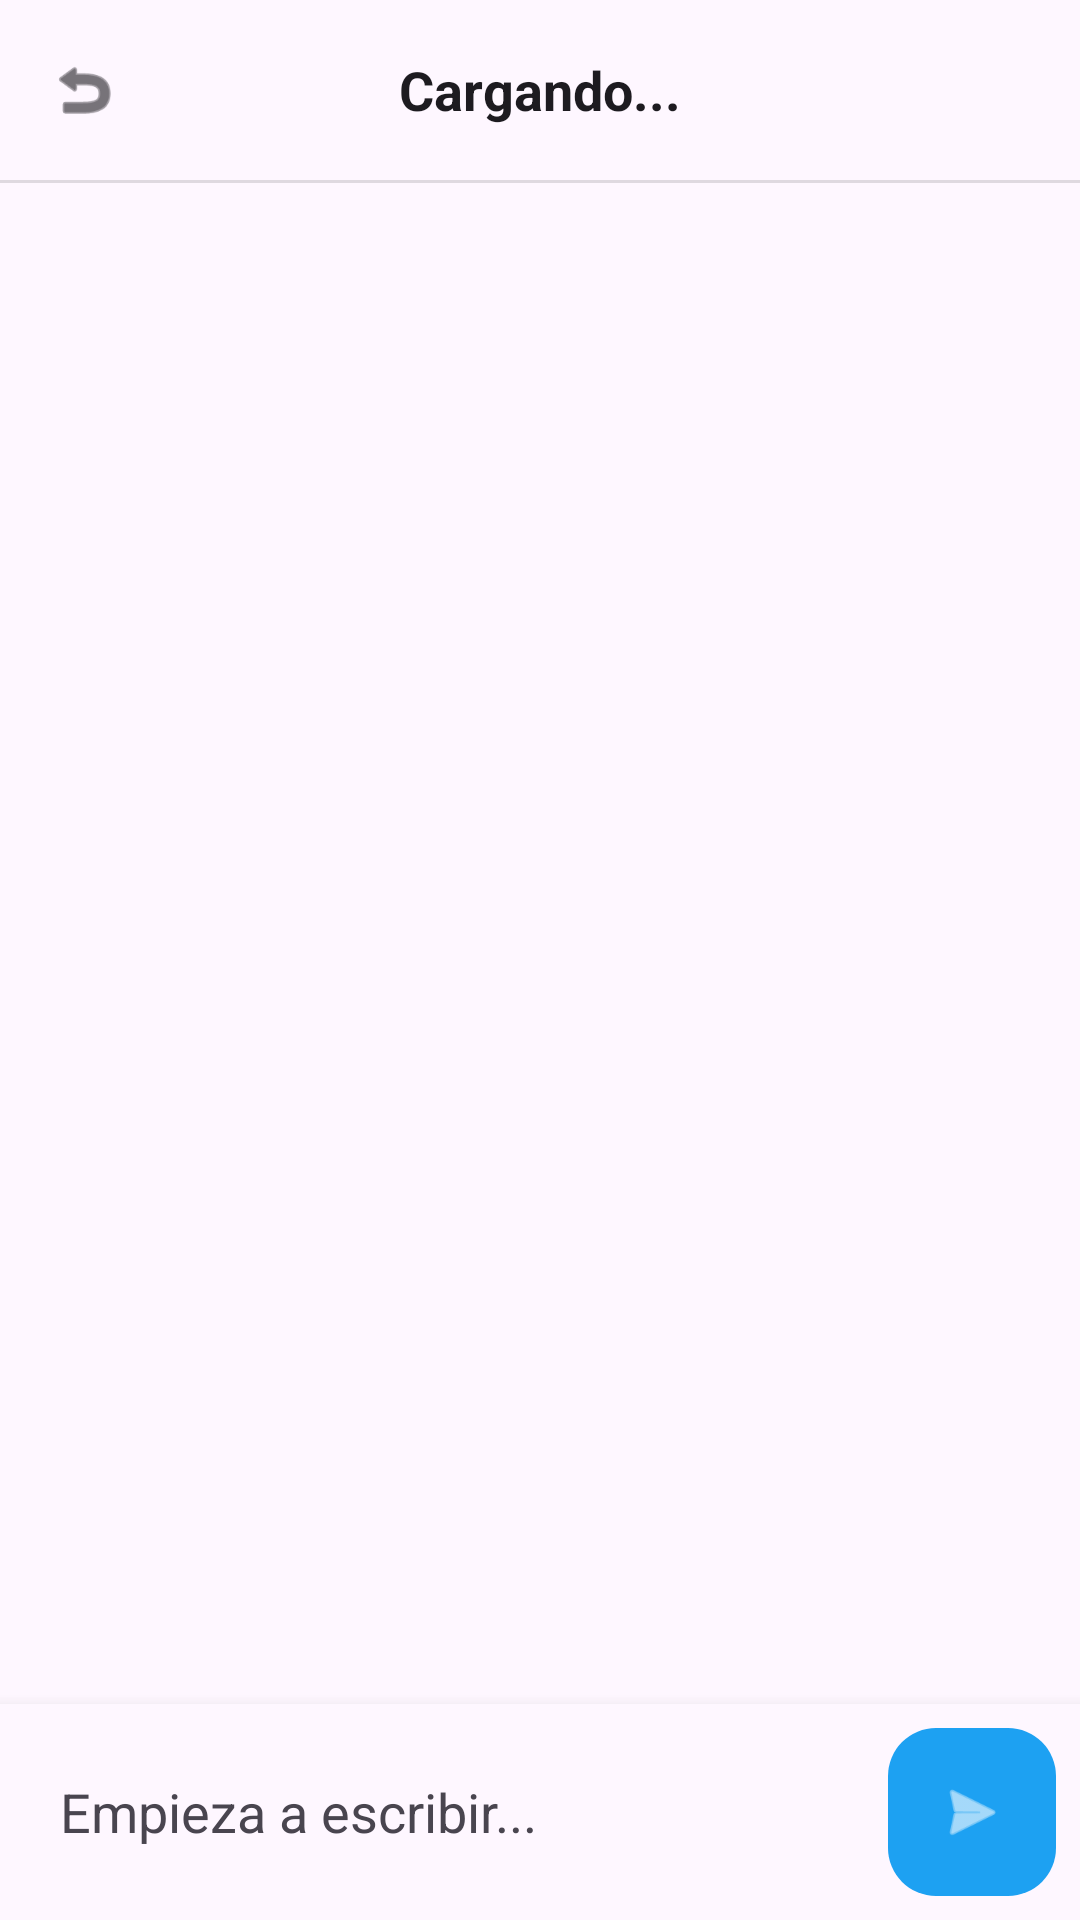

Where to tap for icons on this 1080*1920 app screen, as (x=x, y=y):
revert: (x=85, y=90)
send: (x=972, y=1812)
